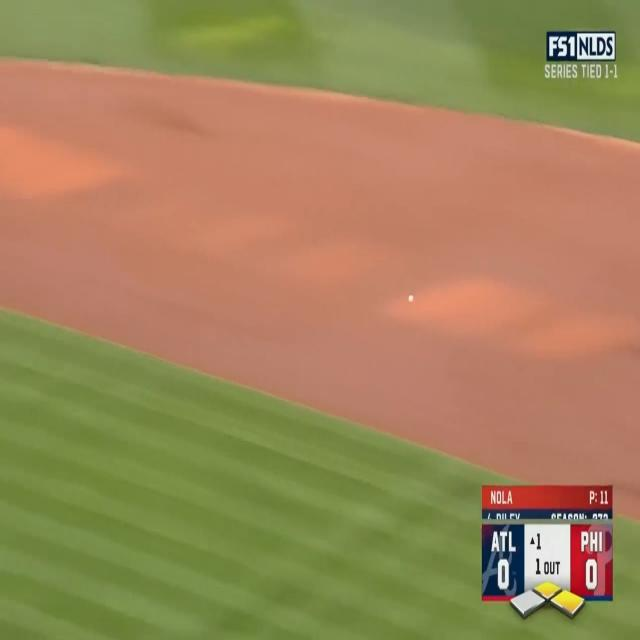baseball: (408, 294, 414, 303)
